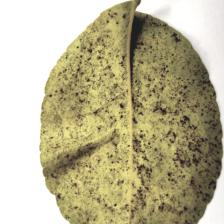canker: (69, 71, 195, 177)
